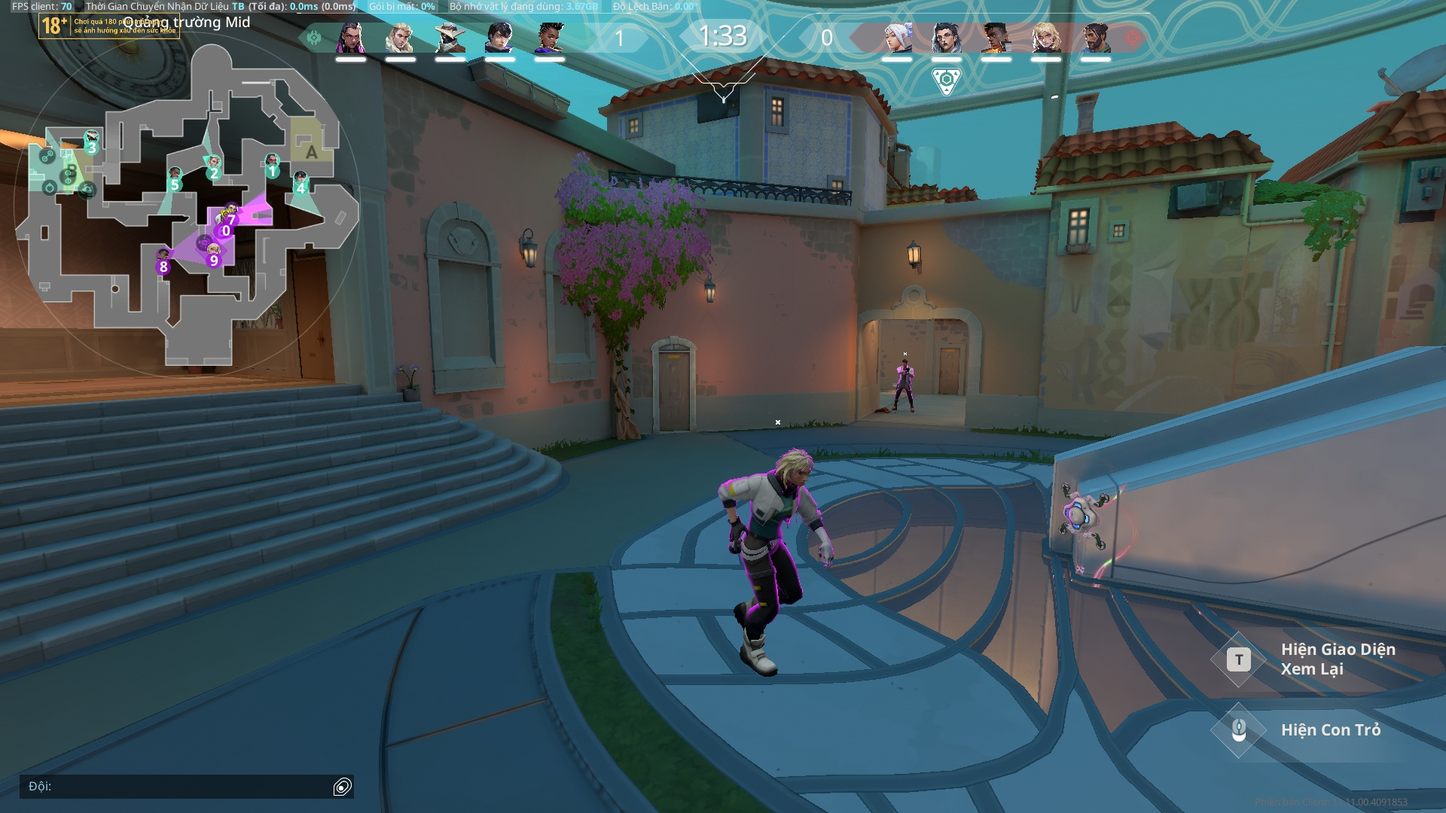body: (749, 467, 800, 543), (898, 364, 915, 385)
head: (778, 447, 814, 489), (901, 358, 909, 367)
